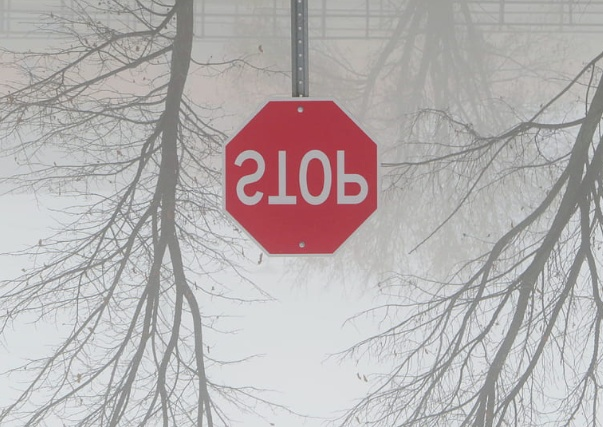Stop: (218, 93, 382, 260)
